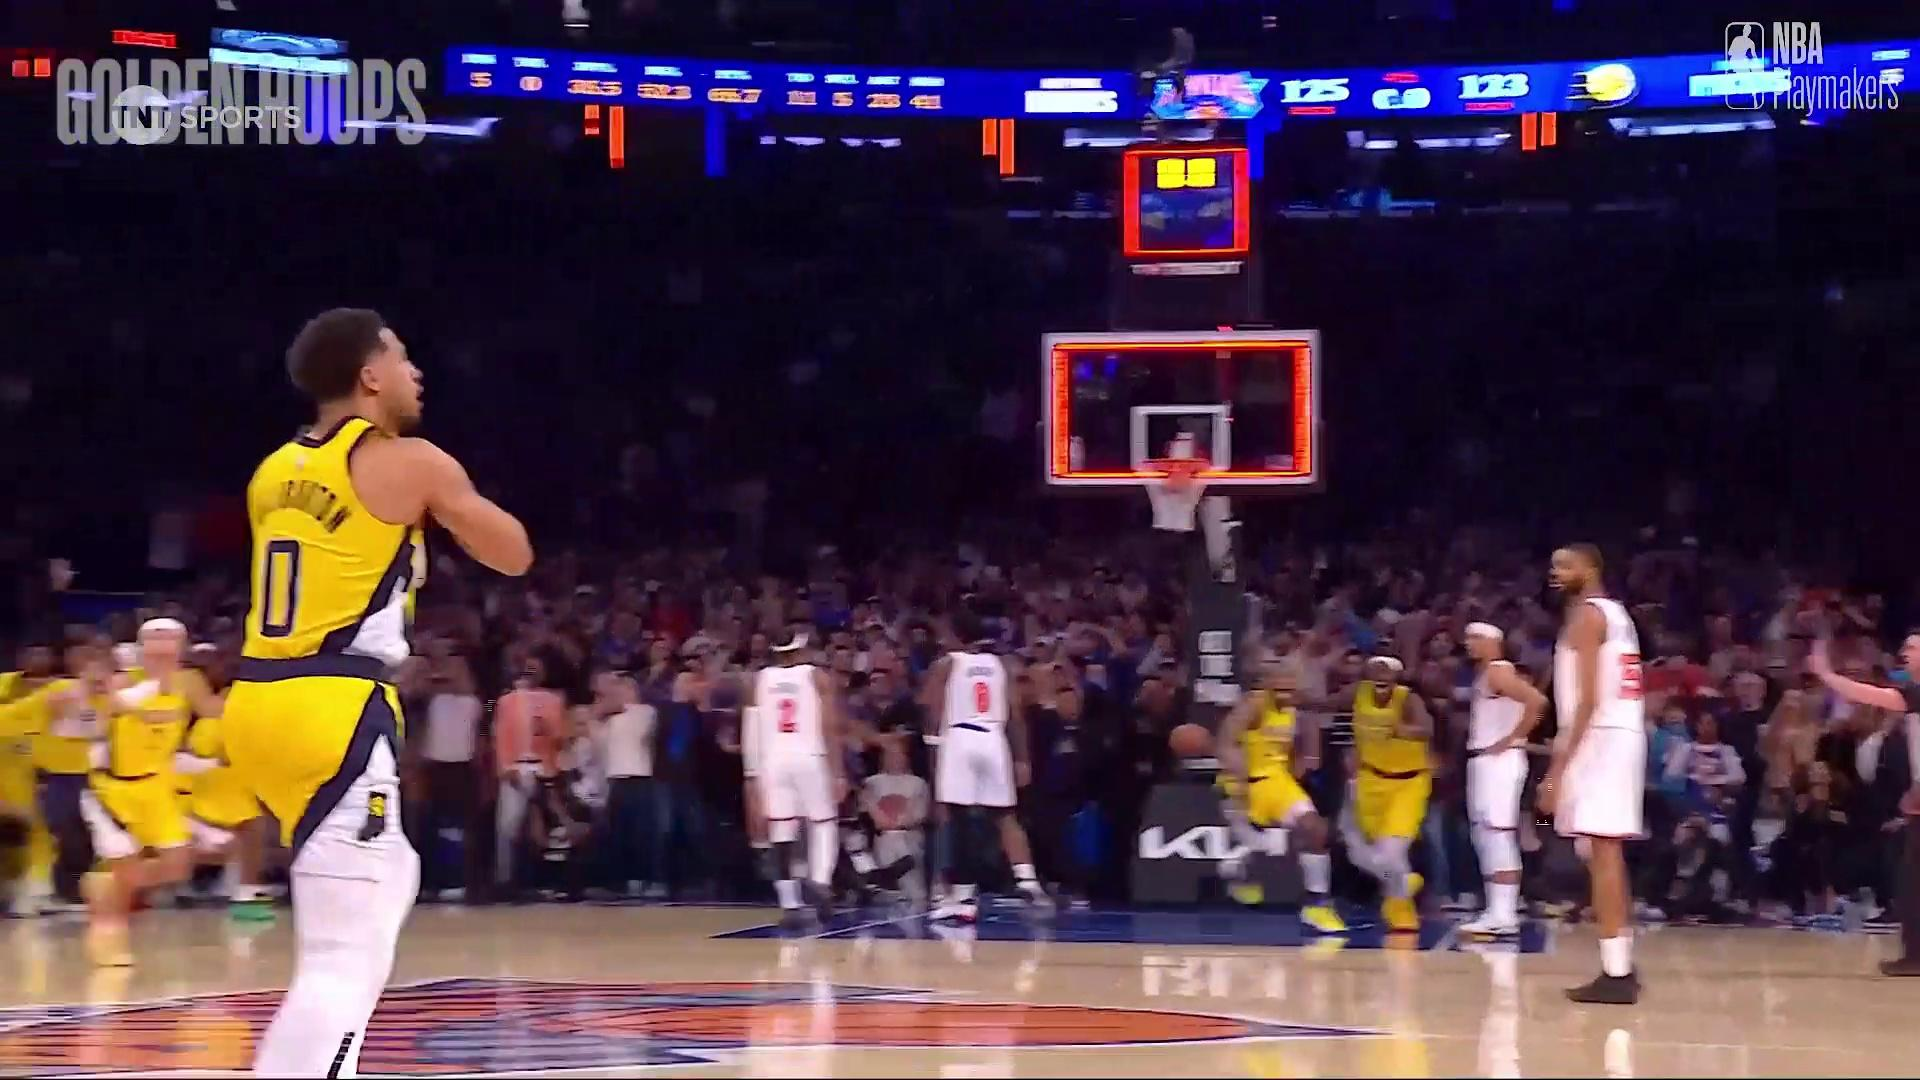ball: (1166, 712, 1209, 767)
hoop: (1145, 456, 1208, 525)
